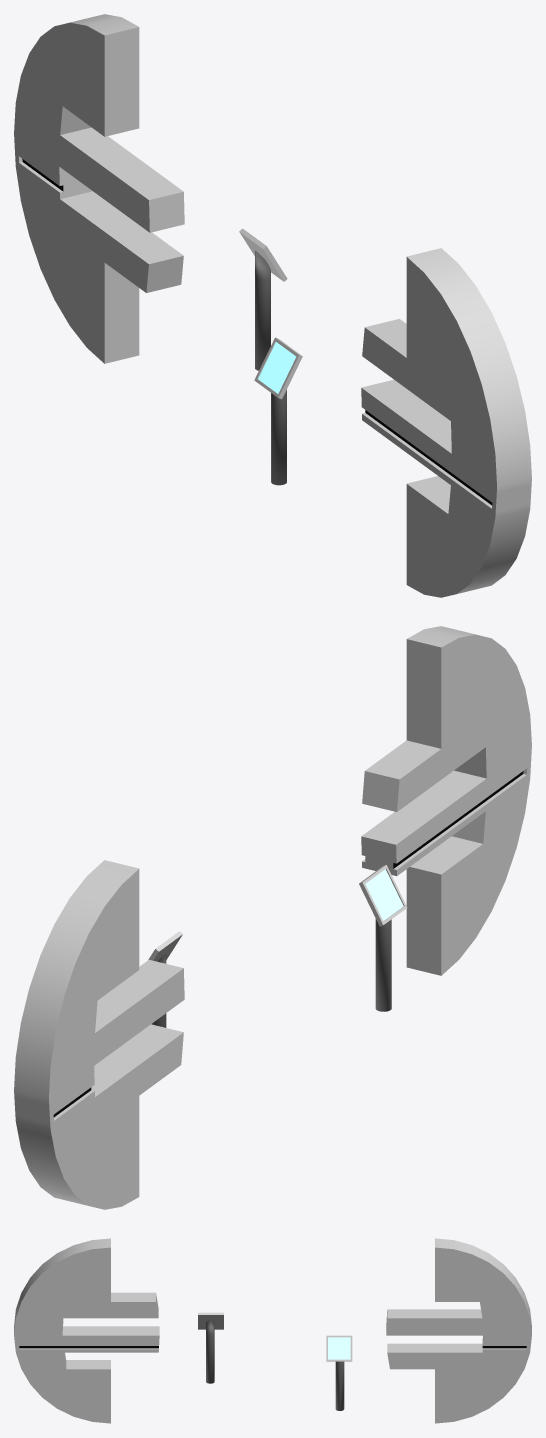
The model's file is MovingParts.fbx.
3 renders of one model, top to bottom at view 1: azimuth 30°, elevation 25°; view 2: azimuth 150°, elevation 25°; view 3: azimuth 270°, elevation 25°, orthographic. The views are drawn at different scales.
Parts seen in each view (by area): view 1: RightRoundDoor.002, LeftRoundDoor.002, HandScanner.001, HandScanner.002; view 2: RightRoundDoor.002, LeftRoundDoor.002, HandScanner.001; view 3: LeftRoundDoor.002, RightRoundDoor.002, HandScanner.002, HandScanner.001.
Boxes of the visible parts, left/top/right/bottom form: RightRoundDoor.002: left=14, top=14, right=184, bottom=363; LeftRoundDoor.002: left=361, top=248, right=531, bottom=597; HandScanner.001: left=254, top=337, right=302, bottom=485; HandScanner.002: left=239, top=228, right=287, bottom=370; RightRoundDoor.002: left=14, top=860, right=184, bottom=1209; LeftRoundDoor.002: left=361, top=626, right=531, bottom=975; HandScanner.001: left=359, top=865, right=407, bottom=1011; LeftRoundDoor.002: left=14, top=1238, right=159, bottom=1423; RightRoundDoor.002: left=386, top=1238, right=531, bottom=1423; HandScanner.002: left=326, top=1335, right=352, bottom=1410; HandScanner.001: left=198, top=1312, right=223, bottom=1383.
Size of the model in its own units: 370 by 900 by 2400.
